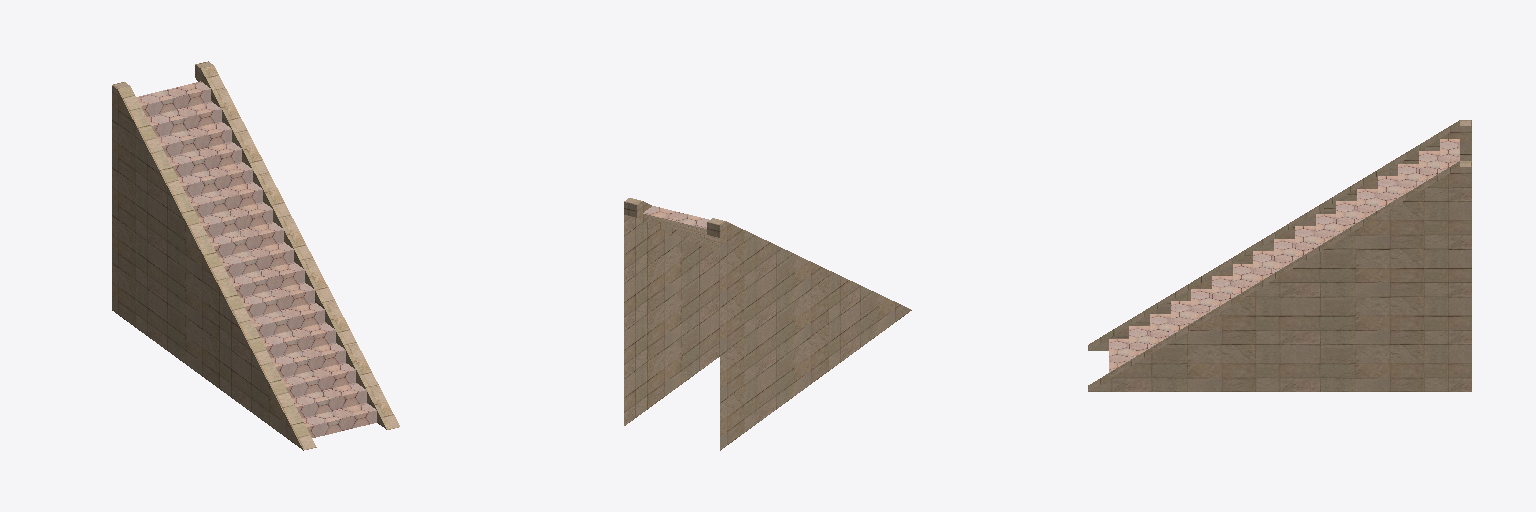
3 renders of one model, left to right at view 1: azimuth 30°, elevation 25°; view 2: azimuth 150°, elevation 25°; view 3: azimuth 270°, elevation 25°, orthographic.
Parts seen in each view (by area): view 1: Mesh18 schody1 Model, Mesh4 schod4 schody1 Model, Mesh3 schod3 schody1 Model, Mesh15 schod15 schody1 Model, Mesh17 schod17 schody1 Model, Mesh10 schod10 schody1 Model, Mesh14 schod14 schody1 Model, Mesh2 schod2 schody1 Model, Mesh11 schod11 schody1 Model, Mesh12 schod12 schody1 Model, Mesh1 schod1 schody1 Model, Mesh5 schod5 schody1 Model (+6 smaller); view 2: Mesh18 schody1 Model, Mesh13 schod13 schody1 Model; view 3: Mesh18 schody1 Model, Mesh4 schod4 schody1 Model, Mesh15 schod15 schody1 Model, Mesh8 schod8 schody1 Model, Mesh7 schod7 schody1 Model, Mesh17 schod17 schody1 Model, Mesh14 schod14 schody1 Model, Mesh3 schod3 schody1 Model, Mesh5 schod5 schody1 Model, Mesh12 schod12 schody1 Model, Mesh6 schod6 schody1 Model, Mesh10 schod10 schody1 Model (+6 smaller).
Part boxes in pixels (bbox=[...]): Mesh18 schody1 Model: bbox=[112, 61, 399, 450]; Mesh4 schod4 schody1 Model: bbox=[230, 262, 304, 297]; Mesh3 schod3 schody1 Model: bbox=[261, 322, 335, 357]; Mesh15 schod15 schody1 Model: bbox=[292, 383, 366, 417]; Mesh17 schod17 schody1 Model: bbox=[147, 101, 221, 136]; Mesh10 schod10 schody1 Model: bbox=[178, 162, 252, 196]; Mesh14 schod14 schody1 Model: bbox=[209, 222, 283, 257]; Mesh2 schod2 schody1 Model: bbox=[240, 282, 314, 317]; Mesh11 schod11 schody1 Model: bbox=[302, 403, 376, 437]; Mesh12 schod12 schody1 Model: bbox=[157, 122, 231, 156]; Mesh1 schod1 schody1 Model: bbox=[271, 342, 345, 377]; Mesh5 schod5 schody1 Model: bbox=[219, 242, 293, 277]; Mesh18 schody1 Model: bbox=[624, 198, 911, 450]; Mesh13 schod13 schody1 Model: bbox=[643, 206, 709, 228]; Mesh18 schody1 Model: bbox=[1088, 120, 1471, 391]; Mesh4 schod4 schody1 Model: bbox=[1253, 251, 1273, 285]; Mesh15 schod15 schody1 Model: bbox=[1129, 326, 1149, 360]; Mesh8 schod8 schody1 Model: bbox=[1336, 201, 1356, 235]; Mesh7 schod7 schody1 Model: bbox=[1212, 276, 1232, 309]; Mesh17 schod17 schody1 Model: bbox=[1419, 151, 1439, 184]; Mesh14 schod14 schody1 Model: bbox=[1295, 226, 1315, 259]; Mesh3 schod3 schody1 Model: bbox=[1191, 289, 1211, 322]; Mesh5 schod5 schody1 Model: bbox=[1274, 239, 1294, 272]; Mesh12 schod12 schody1 Model: bbox=[1398, 164, 1418, 197]; Mesh6 schod6 schody1 Model: bbox=[1150, 314, 1170, 347]; Mesh10 schod10 schody1 Model: bbox=[1357, 189, 1377, 222].
Size of the model in its own units: 63.78 by 142 by 219.
2 materials, 2 textured.